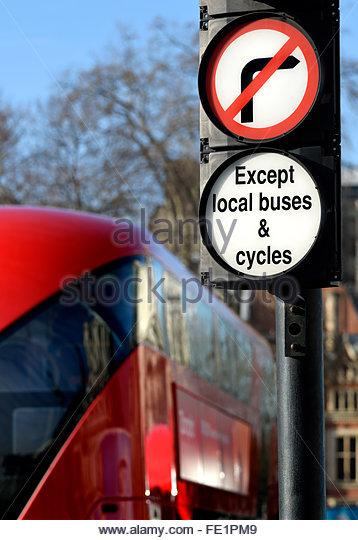no_right_turn: (203, 17, 318, 139)
